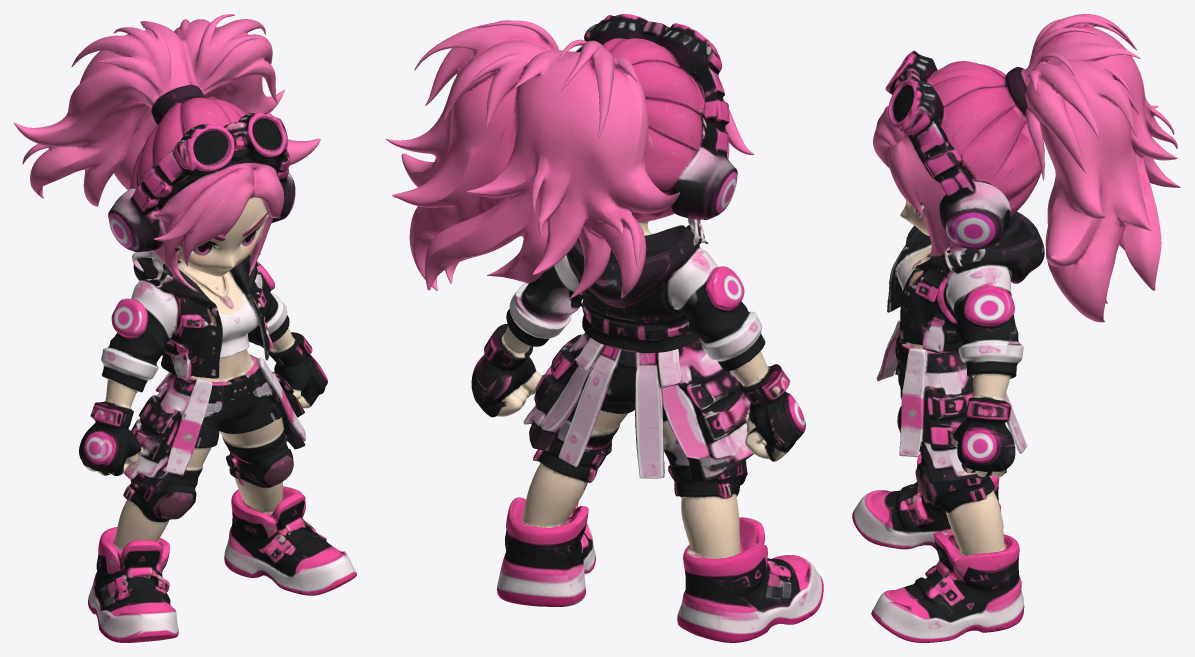
Rendered from pixie_meshy.glb.
The picture shows the model from 3 angles, left to right: view 1: azimuth 30°, elevation 25°; view 2: azimuth 150°, elevation 25°; view 3: azimuth 270°, elevation 25°; orthographic projection. The views are drawn at different scales.
Bounding box in the file's own units: 1.1 × 1.9 × 1.01.
Materials: 1 (1 with a texture image).
